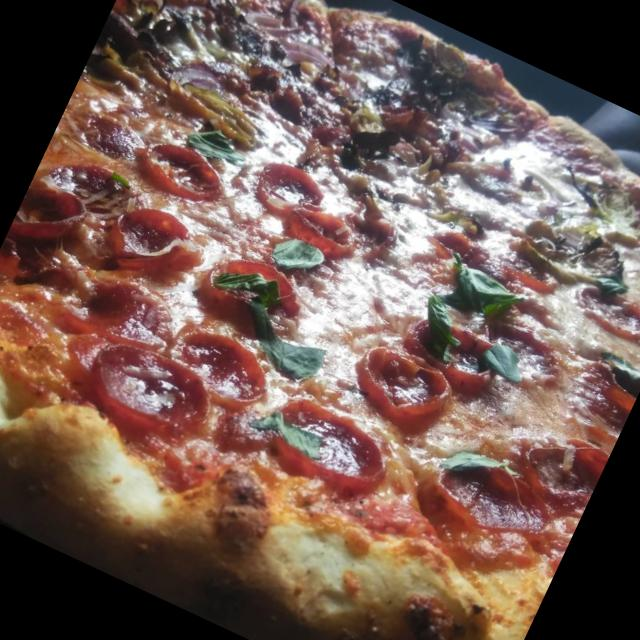pepperoni: (76, 327, 224, 456), (259, 388, 401, 510), (420, 443, 566, 559), (341, 330, 470, 446), (162, 311, 284, 420), (62, 258, 186, 362), (32, 141, 150, 244), (195, 235, 312, 334), (510, 413, 614, 516), (400, 303, 510, 397), (108, 189, 212, 286), (125, 123, 233, 214), (8, 167, 96, 259), (274, 192, 371, 272), (240, 150, 328, 231), (567, 277, 640, 354), (418, 214, 494, 280), (490, 240, 565, 300), (589, 359, 640, 411)
